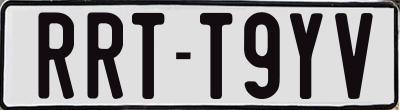9: (242, 9, 283, 102)
R: (35, 11, 74, 100), (87, 9, 123, 97)
T: (198, 13, 236, 105), (132, 10, 168, 101)
V: (332, 11, 375, 103)
Y: (290, 11, 327, 99)
